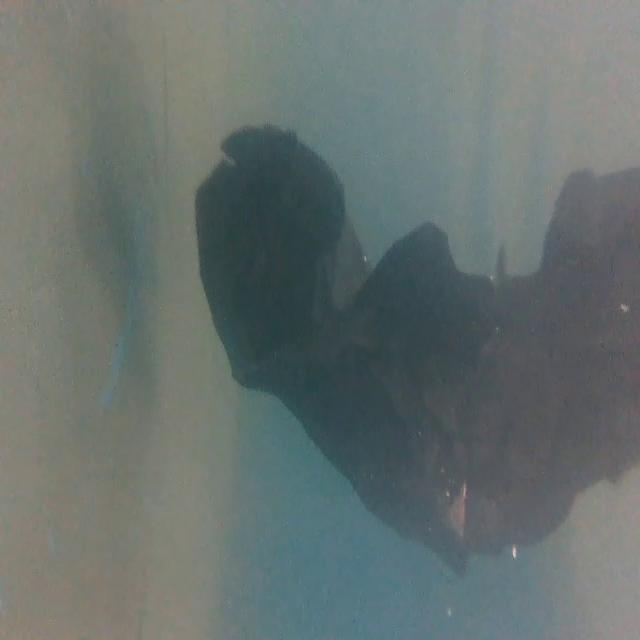plastic bags: (190, 115, 640, 596)
